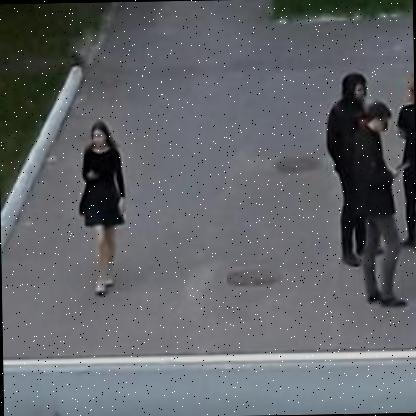person: (346, 95, 414, 310), (314, 68, 386, 263), (77, 117, 136, 300)
